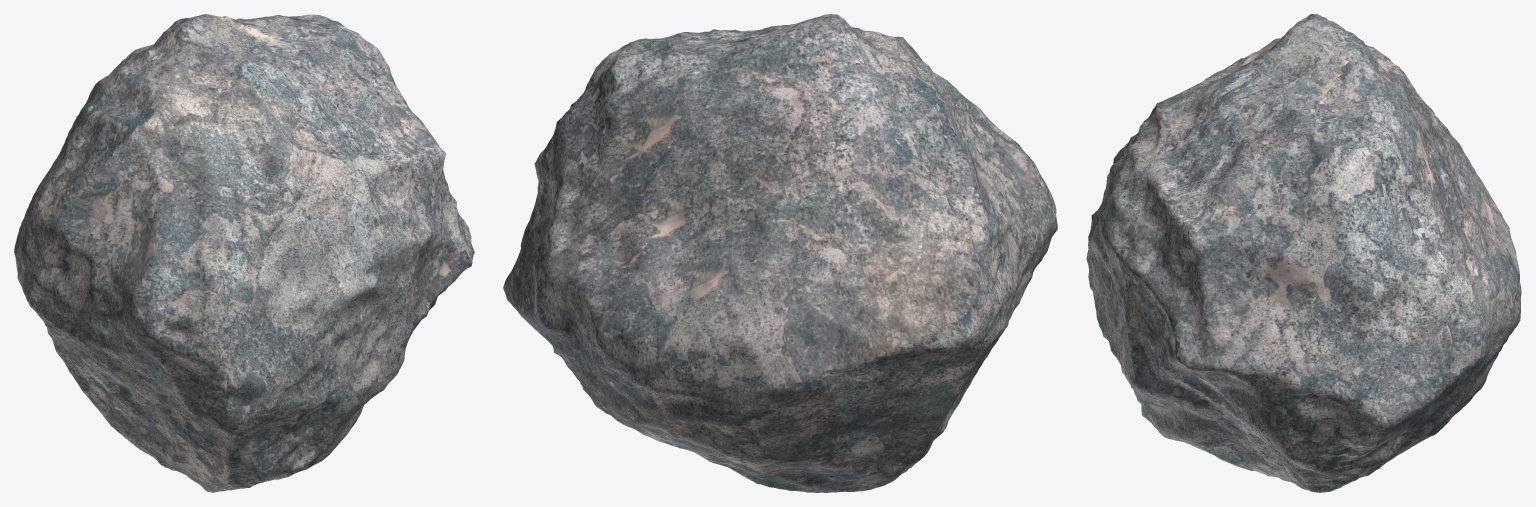
Rendered from Mountain2.fbx.
3 views of the same model, side by side, from view 1: azimuth 30°, elevation 25°; view 2: azimuth 150°, elevation 25°; view 3: azimuth 270°, elevation 25° (orthographic). The views are drawn at different scales.
Parts seen in each view (by area): view 1: Landscape; view 2: Landscape; view 3: Landscape.
Part boxes in pixels (left/top/right/bottom): Landscape: left=14, top=14, right=474, bottom=492; Landscape: left=503, top=14, right=1057, bottom=492; Landscape: left=1086, top=14, right=1521, bottom=492.
Bounding box in the file's own units: 313 × 322 × 287.
